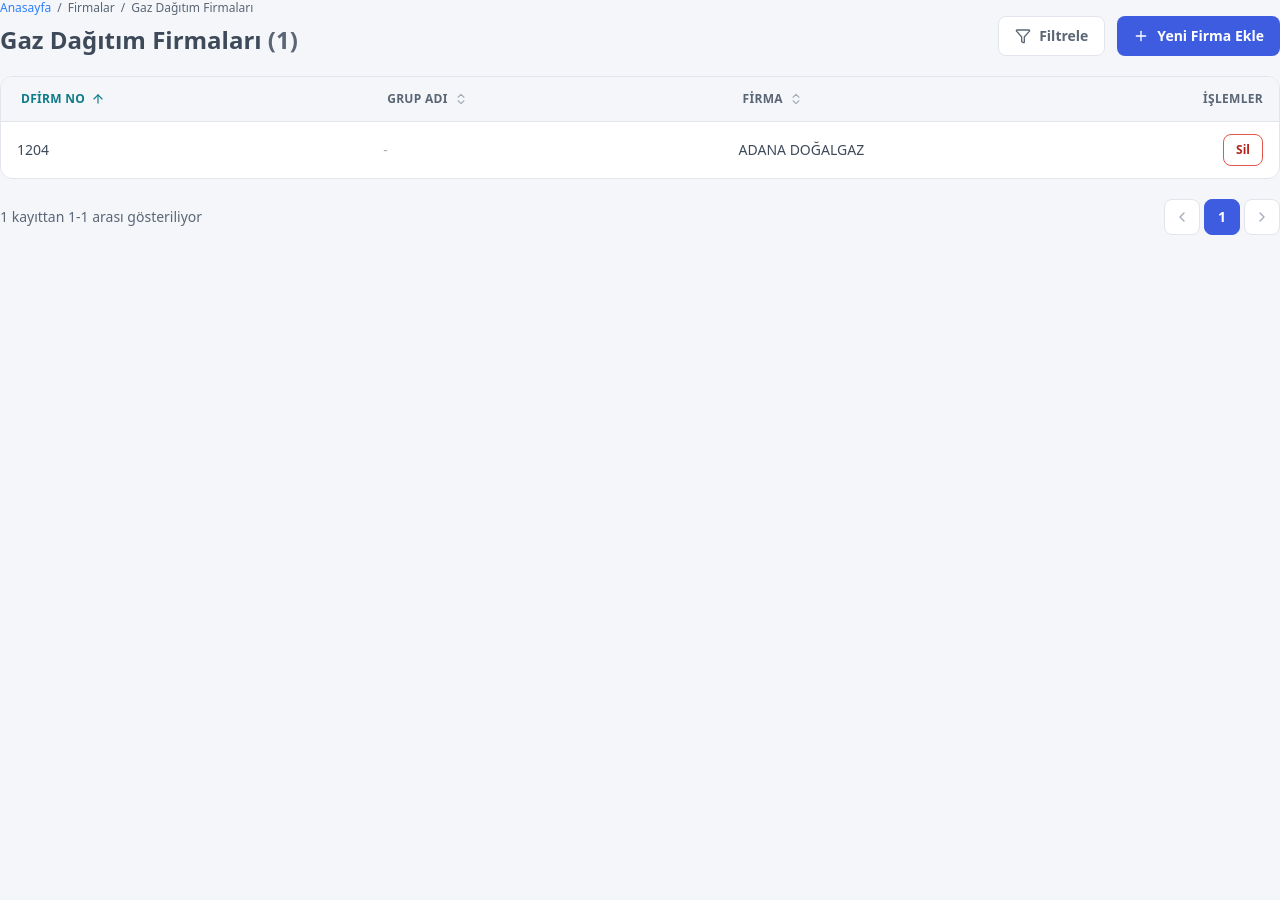
firma silme › onaydan ÖNCE istek atılmaz
The image size is (1280, 900).
Step 1. Click the button "Sil" → (1243, 150), box [1223,134,1263,166]
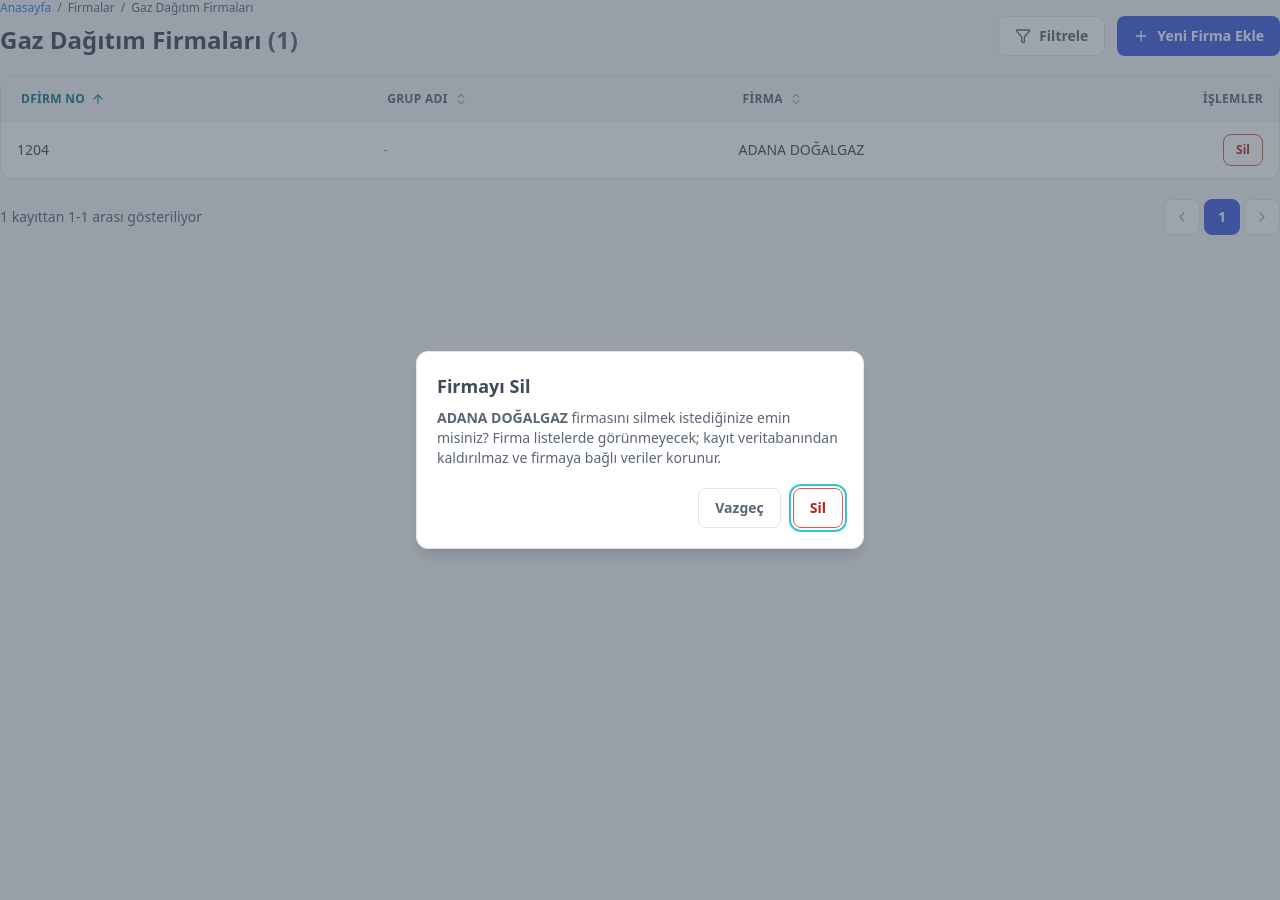
Expected: the dialog is shown, [416,351,864,549]
